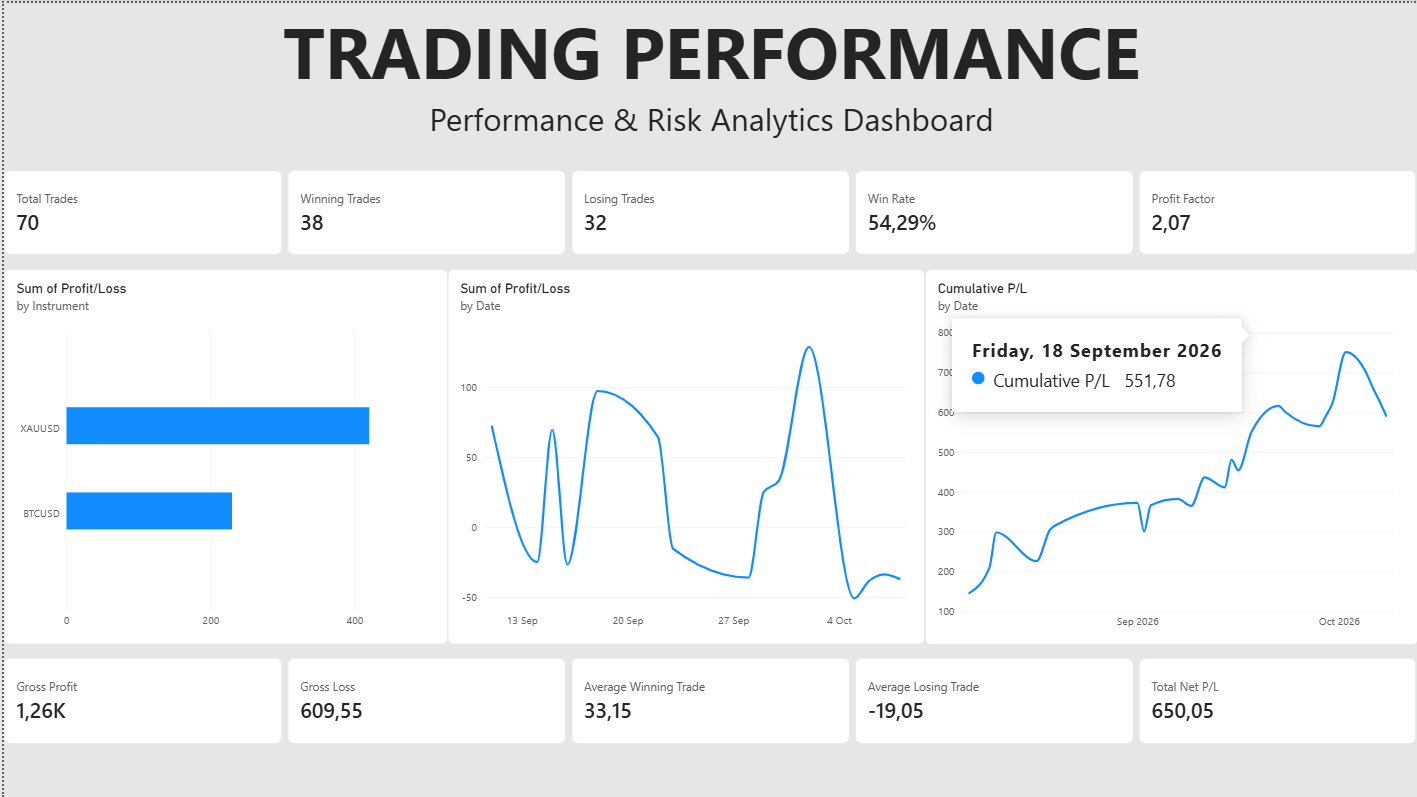

Layout of this report page (visuals, bound fields, positions):
{"tool":"powerbi","page":{"name":"Page 1","canvas":[1920,1080],"ordinal":0},"visuals":[{"type":"lineChart","fields":{"Category":["Sheet1.Date"],"Y":["Sheet1.Cumulative P/L"]},"box":[1249.8,361.1,670.5,509.3],"z":0},{"type":"cardVisual","fields":{"Data":["Sheet1.Total Trades","Sheet1.Winning Trades","Sheet1.Losing Trades","Sheet1.Win Rate","Sheet1.Profit Factor"]},"box":[0,227.5,1920.5,114.5],"z":1000},{"type":"cardVisual","fields":{"Data":["Sheet1.Gross Profit","Sheet1.Gross Loss","Sheet1.Average Winning Trade","Sheet1.Average Losing Trade","Sheet1.Total Net P/L"]},"box":[0,888.7,1920.5,116.8],"z":2000},{"type":"clusteredBarChart","fields":{"Category":["Sheet1.Instrument"],"Y":["Sum(Sheet1.Profit/Loss)"]},"box":[0,361.1,602.6,508.8],"z":3000},{"type":"lineChart","fields":{"Category":["Sheet1.Date"],"Y":["Sum(Sheet1.Profit/Loss)"]},"box":[602.6,361.1,647.2,508.8],"z":4000},{"type":"textbox","box":[0,0,1920.5,208.7],"z":4001}]}

Visuals, with their boxes in screenshot pixels (x1, y1, x2, y2), scaled from the page's 1920x1080 canvas onto the 1417x797 screenshot:
lineChart - Sheet1.Date x Sheet1.Cumulative P/L: detection(922, 266, 1416, 642)
cardVisual - Sheet1.Total Trades x Sheet1.Winning Trades: detection(0, 168, 1416, 252)
cardVisual - Sheet1.Gross Profit x Sheet1.Gross Loss: detection(0, 656, 1416, 742)
clusteredBarChart - Sheet1.Instrument x Sum(Sheet1.Profit/Loss): detection(0, 266, 445, 642)
lineChart - Sheet1.Date x Sum(Sheet1.Profit/Loss): detection(445, 266, 922, 642)
textbox: detection(0, 0, 1416, 154)
